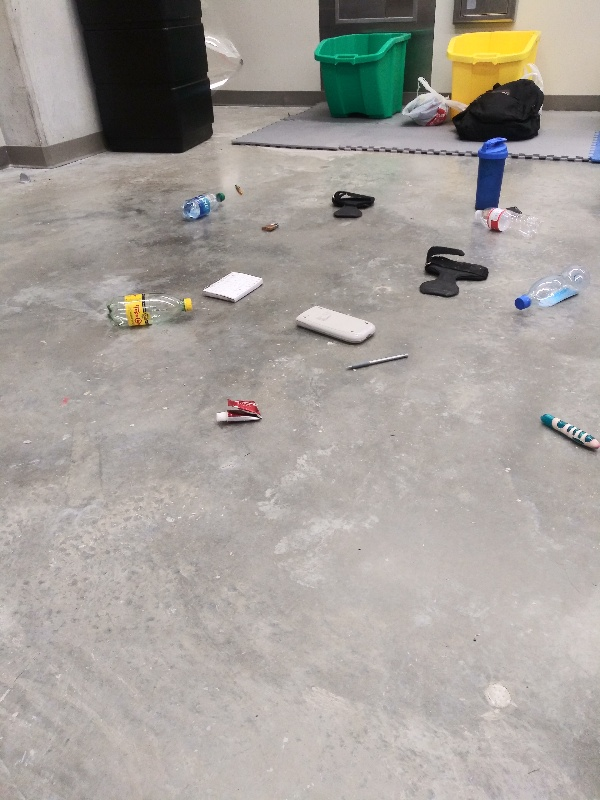bottle: (511, 261, 592, 314), (105, 292, 196, 331), (472, 203, 544, 245), (179, 187, 227, 223)
